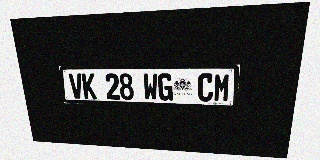2: (105, 73, 120, 100)
8: (119, 73, 134, 100)
C: (197, 73, 214, 102)
G: (158, 73, 173, 101)
K: (81, 73, 97, 99)
M: (213, 73, 231, 102)
V: (68, 73, 84, 99)
W: (143, 73, 158, 100)
